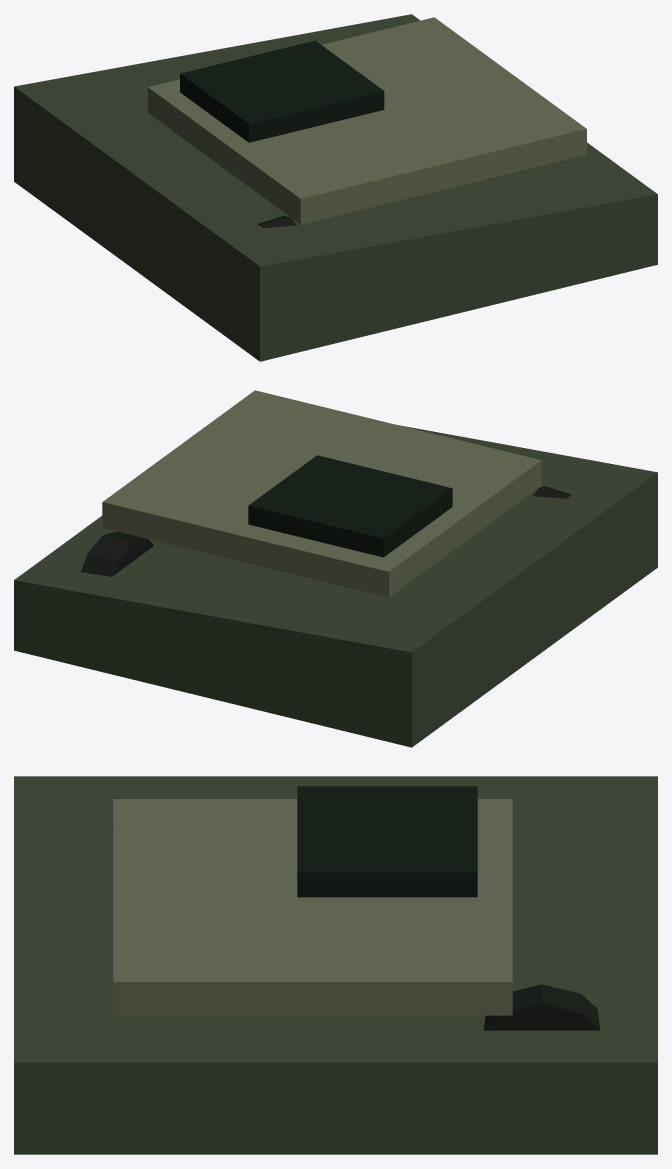
The model's file is wreck_buggy.obj.
3 views of the same model, one above another, from view 1: azimuth 30°, elevation 25°; view 2: azimuth 150°, elevation 25°; view 3: azimuth 270°, elevation 25° (orthographic). The views are drawn at different scales.
Visible parts, largest first — view 1: Body.010; view 2: Body.010; view 3: Body.010.
Boxes of the visible parts, box(x1,y1,x2,y2) form: Body.010: box(14, 14, 657, 361); Body.010: box(14, 390, 657, 747); Body.010: box(14, 776, 657, 1154).
Size of the model in its own units: 3.36 by 1.2 by 3.6.
Materials: 1 (1 with a texture image).
